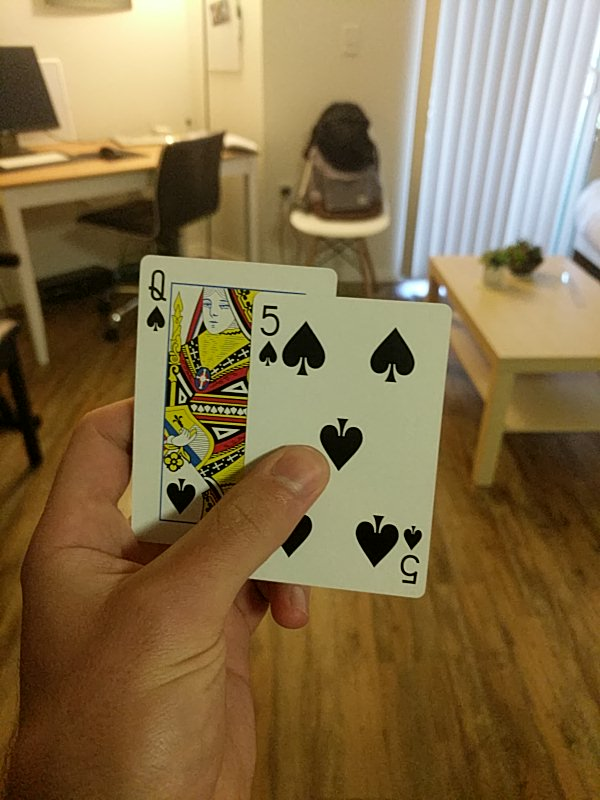Spades: (241, 292, 450, 600), (131, 254, 341, 547)
